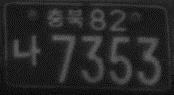2: (108, 9, 126, 32)
3: (79, 34, 106, 82), (135, 36, 161, 84)
5: (108, 35, 133, 85)
7: (50, 33, 76, 83)
8: (89, 8, 106, 31)
나: (12, 34, 41, 67)
충북_O: (46, 7, 85, 29)
